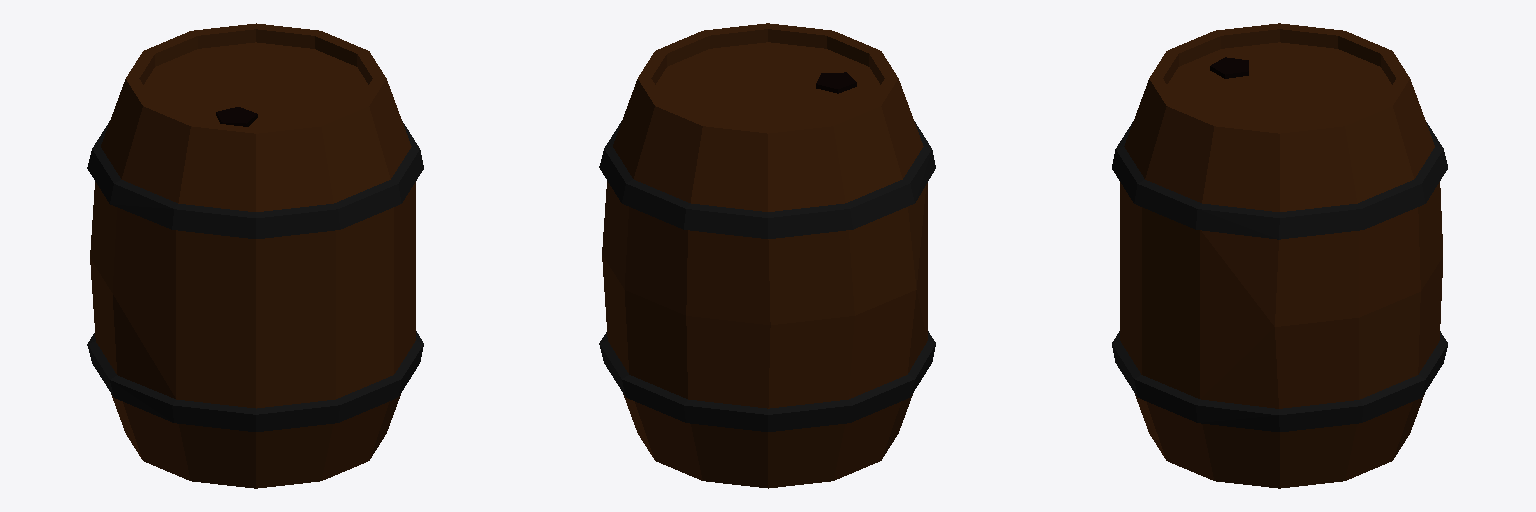
The model's file is Barrel.obj.
3 renders of one model, left to right at view 1: azimuth 30°, elevation 25°; view 2: azimuth 150°, elevation 25°; view 3: azimuth 270°, elevation 25°, orthographic.
Parts seen in each view (by area): view 1: Barrel_Cylinder.007; view 2: Barrel_Cylinder.007; view 3: Barrel_Cylinder.007.
Boxes of the visible parts, box(x1,y1,x2,y2) form: Barrel_Cylinder.007: box(87, 23, 423, 488); Barrel_Cylinder.007: box(599, 23, 935, 488); Barrel_Cylinder.007: box(1112, 23, 1447, 488).
Bounding box in the file's own units: 1.3 × 1.5 × 1.29.